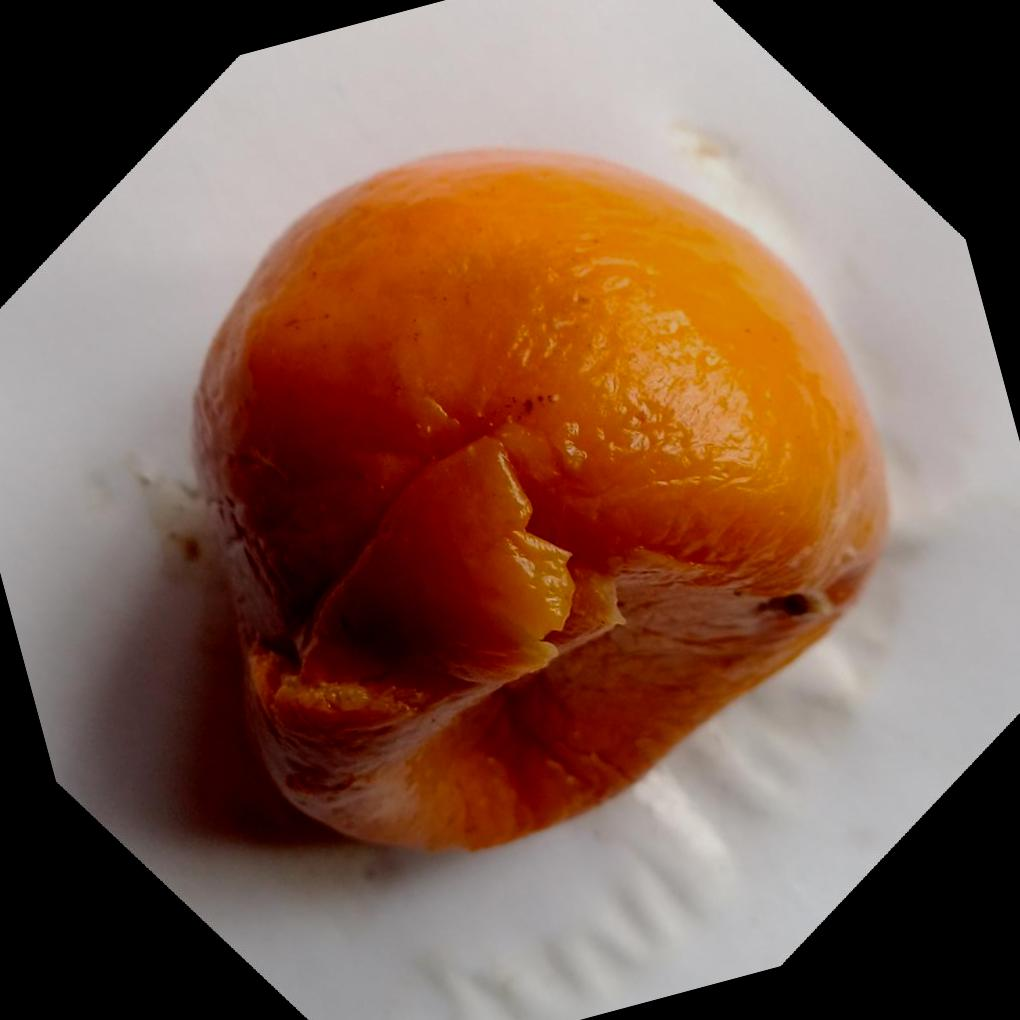FreshOrange: (187, 144, 888, 856)
